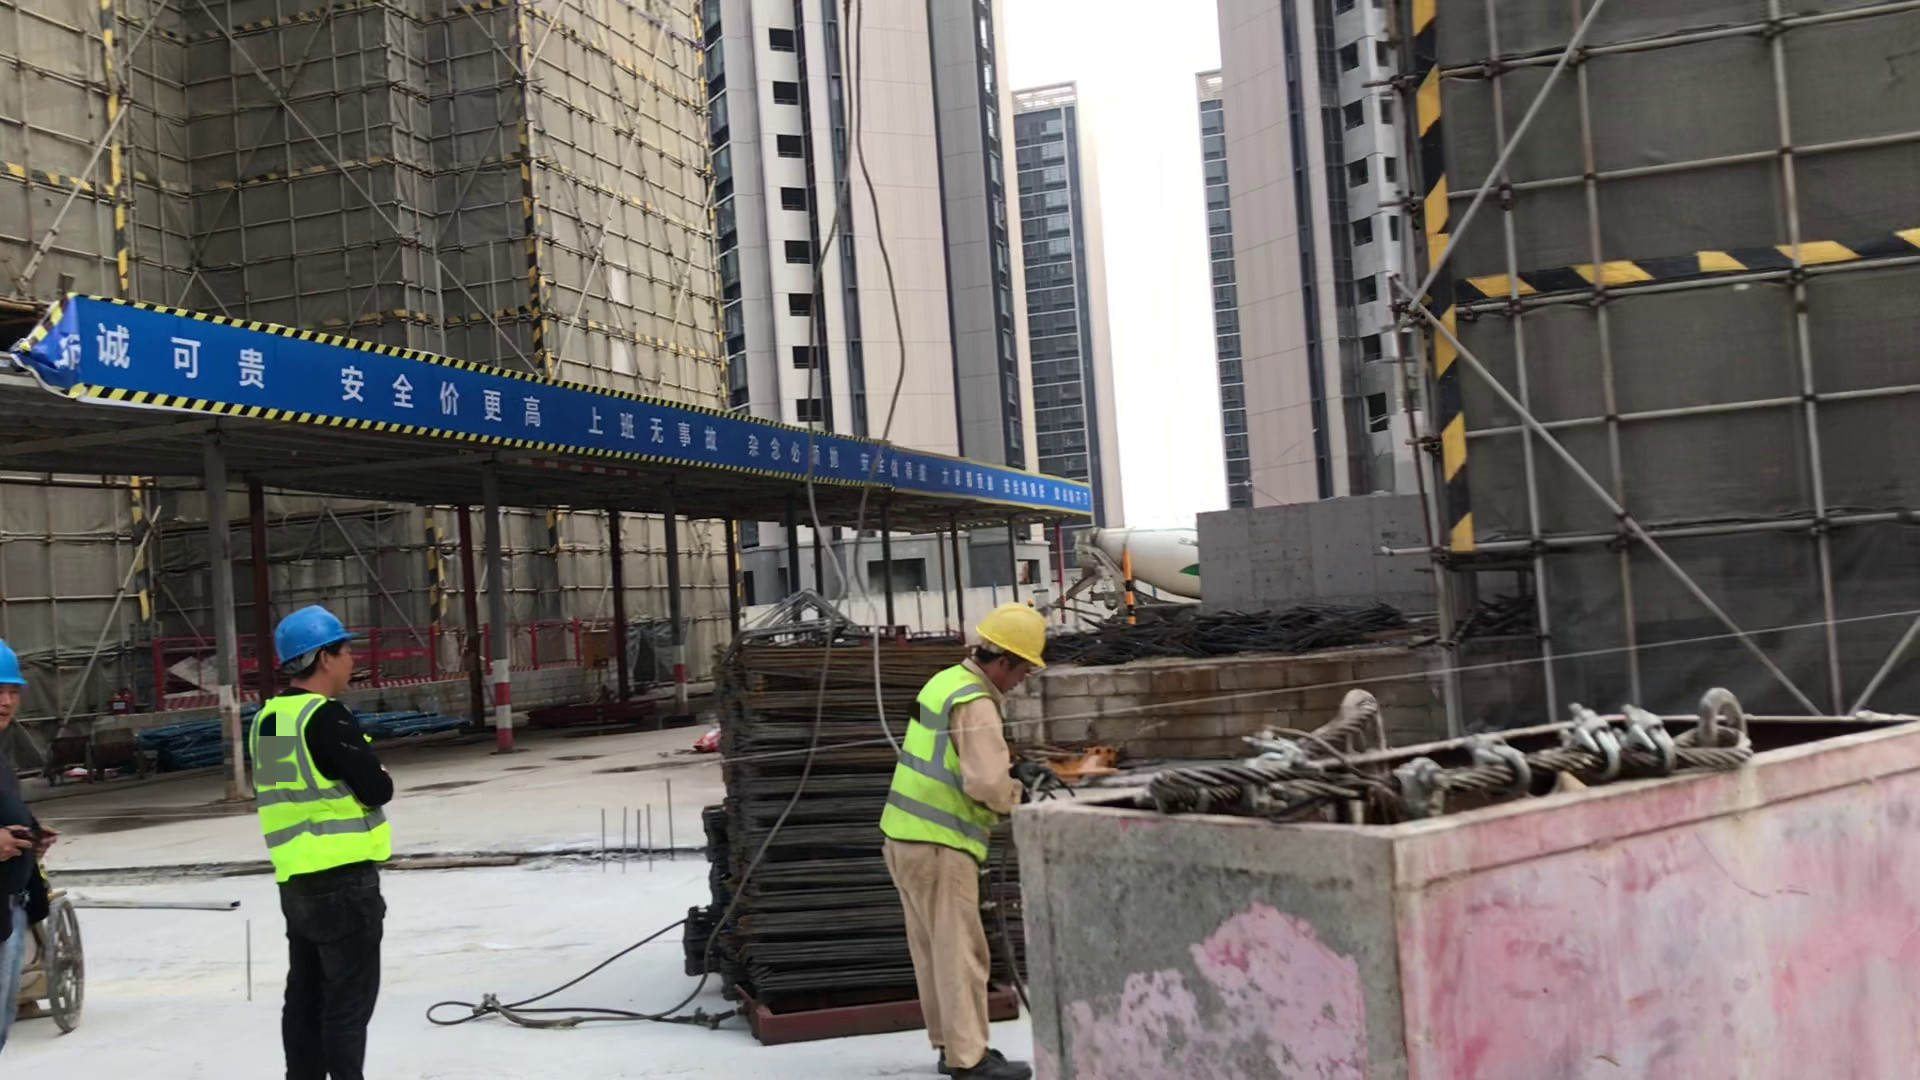ebox: (572, 617, 619, 676)
fence: (149, 627, 577, 677)
helmet: (973, 591, 1054, 672), (264, 607, 358, 658), (1, 628, 30, 699)
person: (233, 599, 406, 1080), (887, 585, 1028, 1080), (1, 621, 54, 980)
slogan: (107, 317, 1095, 518)
vest: (889, 661, 999, 848), (250, 703, 376, 863)
